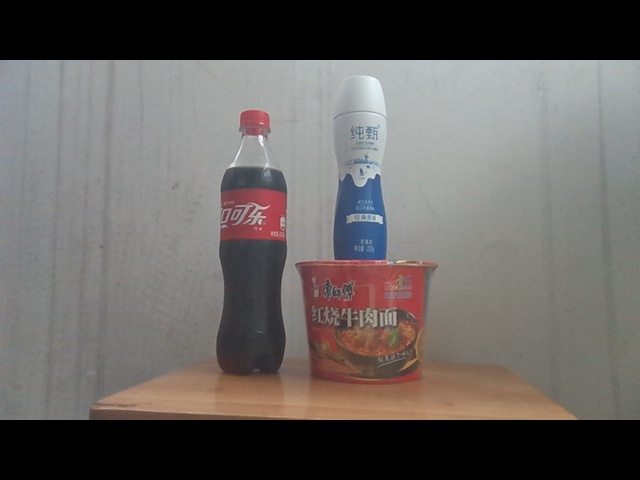cola: (219, 109, 287, 374)
kangshifu: (294, 261, 439, 385)
yogurt: (331, 75, 389, 260)
